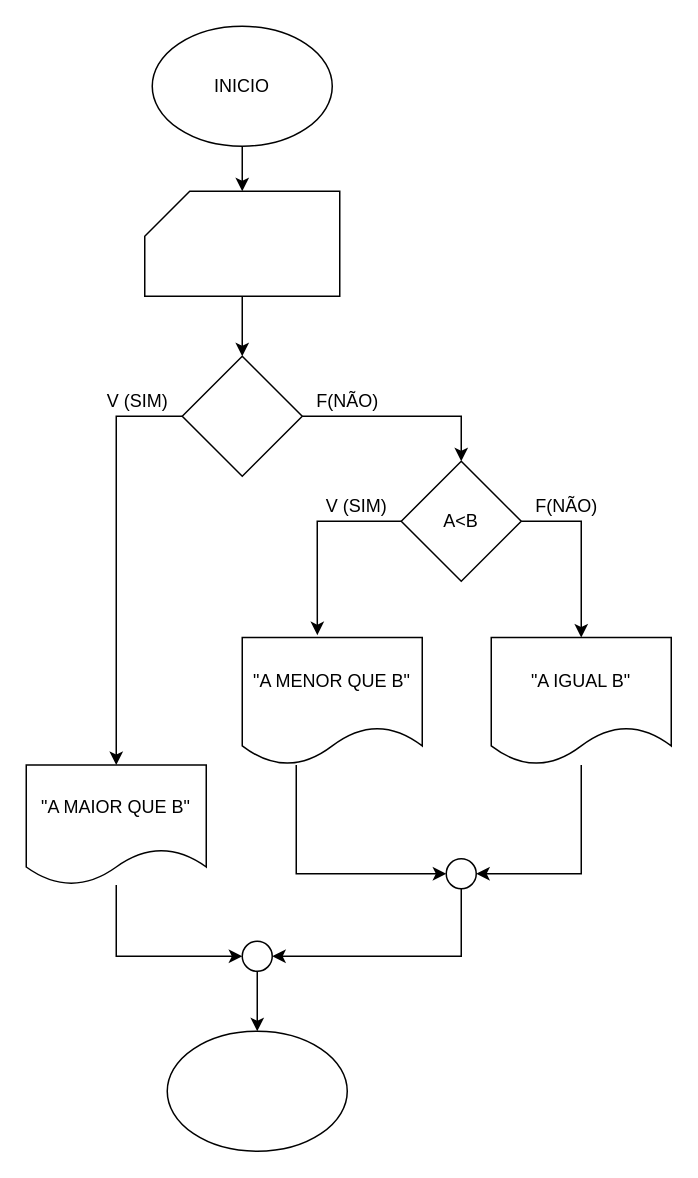
Some shapes in this 698 by 1178 pixel diagram are drawn without their labels. The centre of each missing label's shape, as x and y in pixels:
"A,B" belongs at point (241, 243).
"A>B" belongs at point (241, 415).
"FIM" belongs at point (256, 1090).
